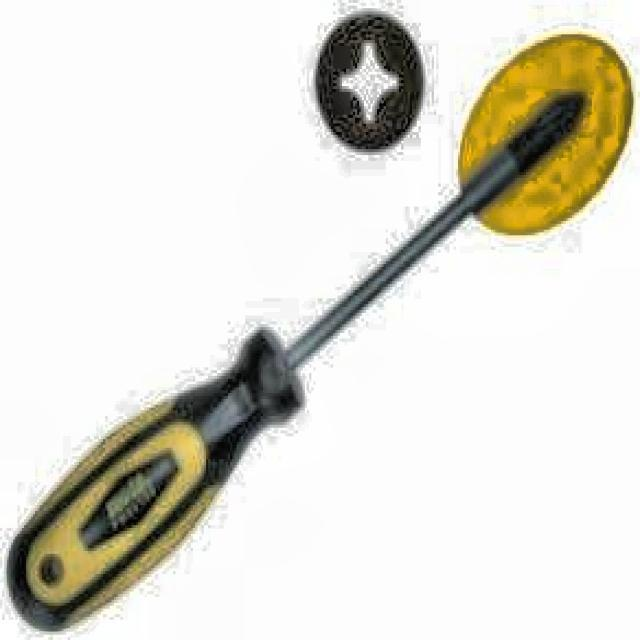screwdriver: (6, 91, 586, 634)
